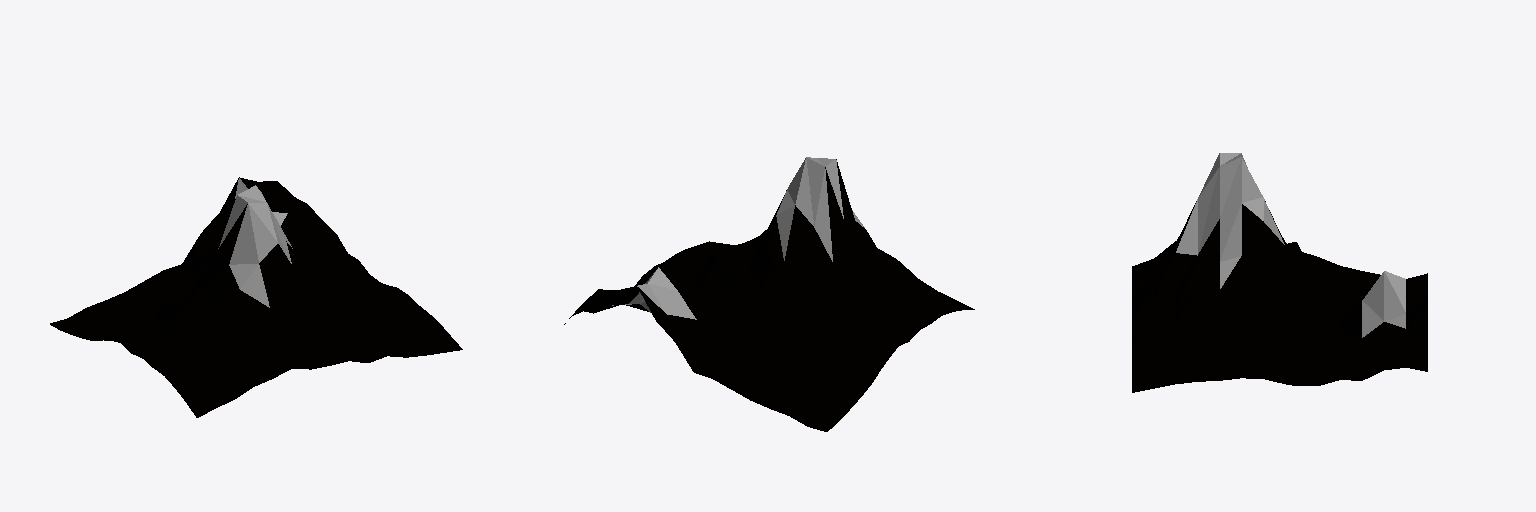
File: Mountain_03.obj
The picture shows the model from 3 angles: view 1: azimuth 30°, elevation 25°; view 2: azimuth 150°, elevation 25°; view 3: azimuth 270°, elevation 25°; orthographic projection.
Parts seen in each view (by area): view 1: Plane.001; view 2: Plane.001; view 3: Plane.001.
Part boxes in pixels (bbox=[...]): Plane.001: bbox=[50, 177, 462, 417]; Plane.001: bbox=[564, 157, 974, 431]; Plane.001: bbox=[1132, 153, 1427, 392].
Bounding box in the file's own units: 127 × 81.97 × 123.